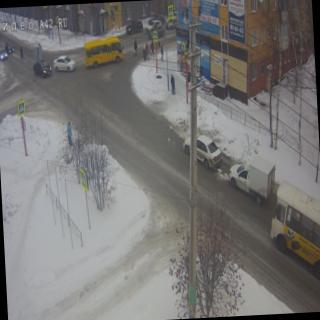large-vehicle: (276, 177, 320, 279), (228, 150, 272, 208), (84, 38, 125, 67)
small-vehicle: (181, 122, 221, 174), (31, 56, 53, 79), (52, 55, 76, 76), (126, 19, 144, 36), (146, 16, 160, 34), (150, 25, 167, 37), (6, 39, 16, 52), (0, 44, 8, 59)
